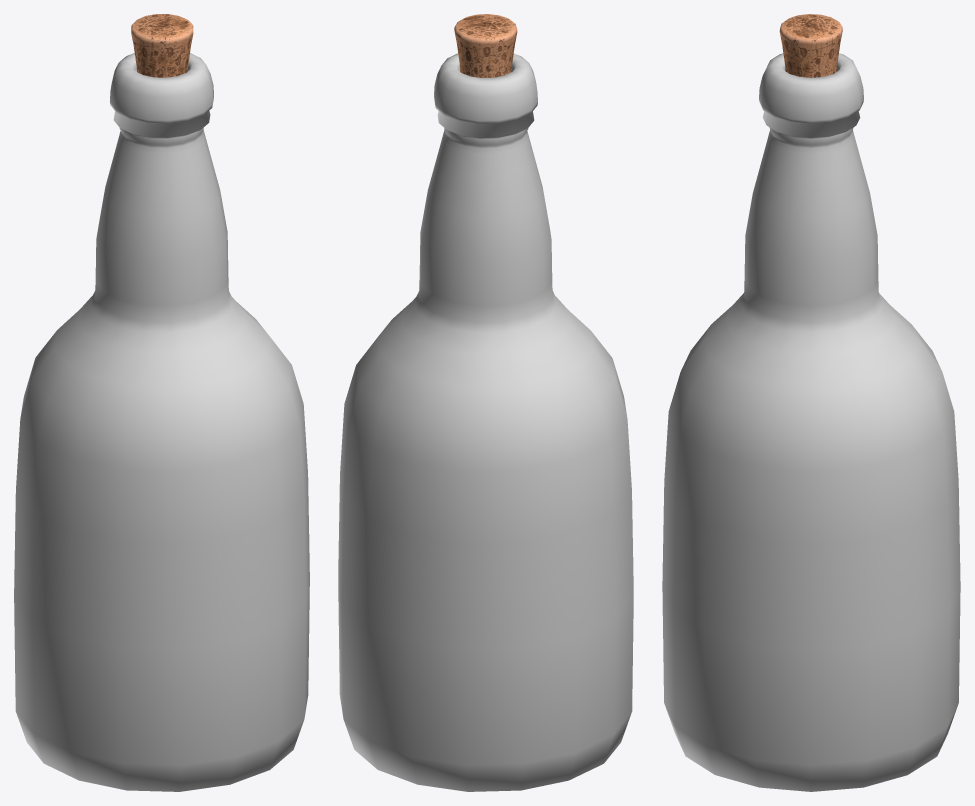
File: Bottle_C.fbx
The picture shows the model from 3 angles, left to right: view 1: azimuth 30°, elevation 25°; view 2: azimuth 150°, elevation 25°; view 3: azimuth 270°, elevation 25°; orthographic projection.
Parts seen in each view (by area): view 1: Bottle_02; view 2: Bottle_02; view 3: Bottle_02.
Part boxes in pixels (box(x1,y1,x2,y2)): Bottle_02: box(14, 14, 309, 791); Bottle_02: box(338, 14, 633, 791); Bottle_02: box(662, 14, 960, 791).
Bounding box in the file's own units: 59.6 × 158 × 59.6.
